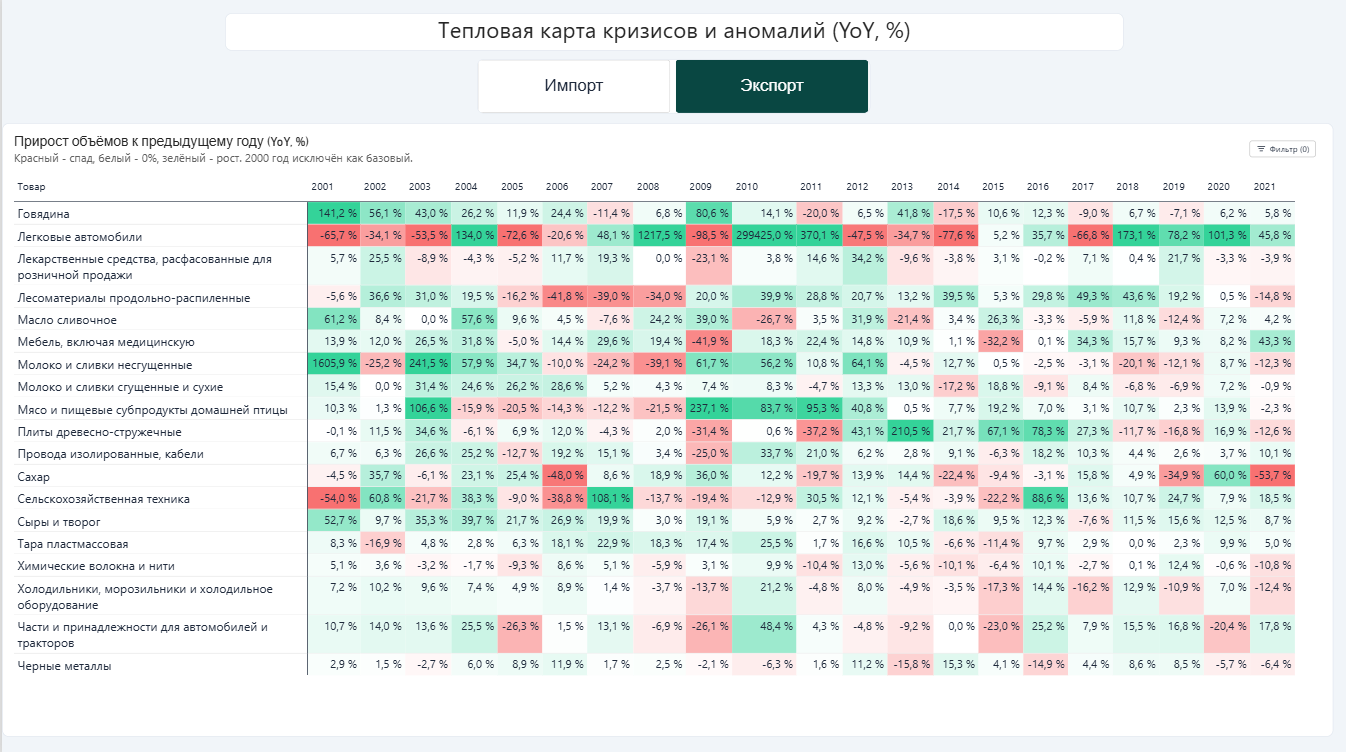

This screenshot's page, from the dashboard's own definition file:
{"tool":"powerbi","page":{"name":"Аномалии и кризисы","canvas":[1920,1080],"ordinal":2},"visuals":[{"type":"advancedSlicerVisual","fields":{"Values":["Fact_Trade.Поток"]},"box":[678.3,86.7,561.7,78.3],"z":0},{"type":"textbox","box":[318,22,1284,54],"z":1000},{"type":"pivotTable","title":"Прирост объёмов к предыдущему году (YoY, %)","fields":{"Columns":["Fact_Trade.Год"],"Rows":["Fact_Trade.Товар"],"Values":["Fact_Trade.Прирост YoY (%)"]},"box":[0,178.3,1901.7,876.7],"z":2000}]}

Visuals, with their boxes in screenshot pixels (x1, y1, x2, y2), scaled from the page's 1920x1080 canvas onto the 1346x752 screenshot:
advancedSlicerVisual - Fact_Trade.Поток: [x1=476, y1=60, x2=869, y2=115]
textbox: [x1=223, y1=15, x2=1123, y2=53]
"Прирост объёмов к предыдущему году (YoY, %)" pivotTable: [x1=0, y1=124, x2=1333, y2=735]
